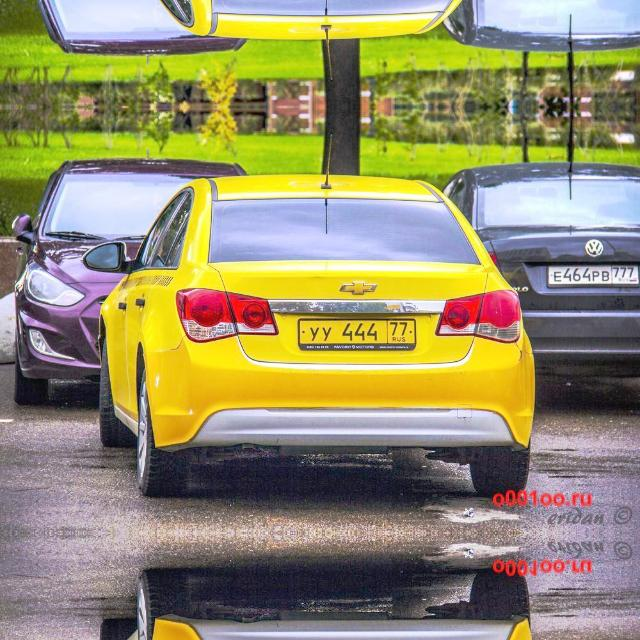citizen: (544, 258, 640, 290)
taxi: (293, 313, 421, 357)
